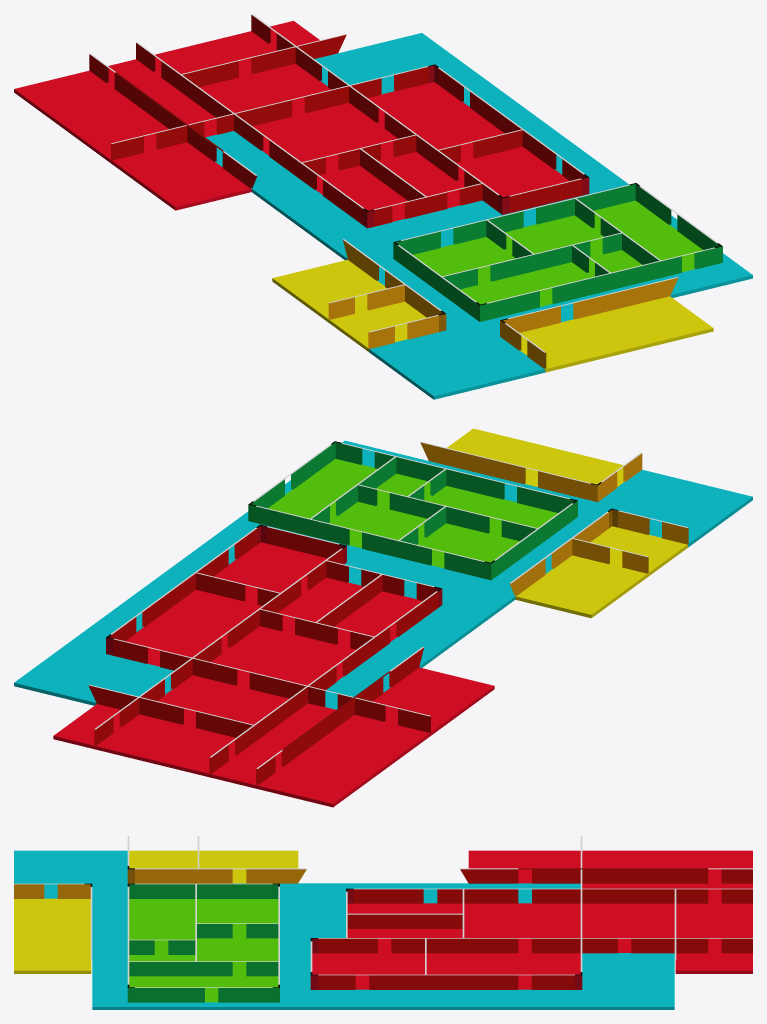
File: Level_Inside_220.fbx
The picture shows the model from 3 angles, top to bottom: view 1: azimuth 30°, elevation 25°; view 2: azimuth 150°, elevation 25°; view 3: azimuth 270°, elevation 25°; orthographic projection. The views are drawn at different scales.
Visible parts, largest first — view 1: Wall (×2), Dalle26, Dalle19, Dalle9, Black_Top, Dalle2, Dalle10, Dalle4, Dalle21, Dalle22bis, Dalle1, Dalle17 (+26 smaller); view 2: Wall (×2), Dalle9, Dalle26, Black_Top, Dalle21, Dalle2, Dalle4, Dalle, Dalle17, Dalle19, Dalle22bis, Dalle10 (+27 smaller); view 3: Wall (×2), Black_Top, Dalle19, Dalle21, Dalle26, Dalle2, Dalle4, Dalle1, Dalle9, Dalle20, Dalle20bis, Dalle15 (+31 smaller).
Boxes of the visible parts, x1,y1,x2,y2 form: Wall (×2): (89,15,678,368); Dalle26: (369,322,545,399); Dalle19: (520,296,713,372); Dalle9: (14,70,168,163); Black_Top: (89,14,722,352); Dalle2: (253,103,397,173); Dalle10: (111,142,251,210); Dalle4: (368,82,504,160); Dalle21: (314,33,474,94); Dalle22bis: (273,193,393,262); Dalle1: (199,63,330,115); Dalle17: (272,259,386,322); Wall (×2): (88,442,642,785); Dalle9: (257,715,430,807); Dalle26: (578,469,752,547); Black_Top: (89,441,687,768); Dalle21: (14,644,173,705); Dalle2: (211,626,355,688); Dalle4: (126,590,261,666); Dalle: (95,714,236,777); Dalle17: (515,555,648,618); Dalle19: (447,428,624,486); Dalle22bis: (394,577,515,654); Dalle10: (373,667,494,735); Wall (×2): (14,869,752,989); Black_Top: (14,836,752,987); Dalle19: (14,898,91,973); Dalle21: (581,953,674,1009); Dalle26: (14,850,127,898); Dalle2: (464,903,580,952); Dalle4: (426,953,580,989); Dalle1: (582,903,674,952); Dalle9: (582,850,752,883); Dalle20: (279,989,430,1009); Dalle20bis: (430,989,581,1009); Dalle15: (129,899,195,954).
Bounding box in the file's own units: 10975 × 577 × 21950.
